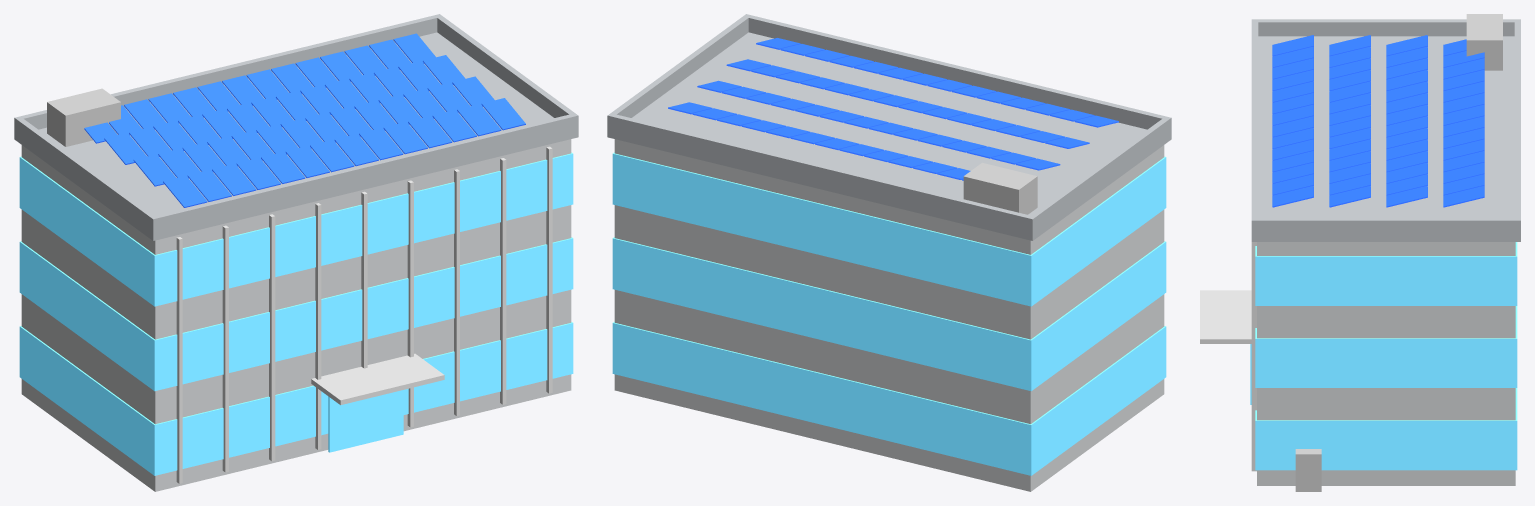
File: office-pv.glb
The picture shows the model from 3 angles, left to right: view 1: azimuth 30°, elevation 25°; view 2: azimuth 150°, elevation 25°; view 3: azimuth 270°, elevation 25°; orthographic projection. The views are drawn at different scales.
Parts seen in each view (by area): view 1: core, pv_panel (×54), glass_band_2, glass_band_1, glass_band_0, parapet (×4), mullion (×9), roof, canopy, entrance, rooftop_unit; view 2: core, roof, glass_band_0, glass_band_2, glass_band_1, parapet (×4), rooftop_unit; view 3: pv_panel (×55), core, roof, glass_band_1, glass_band_2, glass_band_0, parapet (×4), canopy, rooftop_unit, mullion, meter_cabinet.
Part boxes in pixels (x1=…): core: x1=21, y1=139, x2=571, y2=491; pv_panel (×54): x1=104, y1=33, x2=525, y2=207; glass_band_2: x1=19, y1=152, x2=573, y2=306; glass_band_1: x1=19, y1=237, x2=573, y2=391; glass_band_0: x1=19, y1=322, x2=573, y2=475; parapet (×4): x1=14, y1=14, x2=578, y2=233; mullion (×9): x1=176, y1=146, x2=552, y2=483; roof: x1=14, y1=32, x2=578, y2=240; canopy: x1=311, y1=353, x2=444, y2=405; entrance: x1=328, y1=390, x2=403, y2=452; rooftop_unit: x1=47, y1=88, x2=120, y2=146; core: x1=614, y1=139, x2=1164, y2=491; roof: x1=607, y1=32, x2=1171, y2=240; glass_band_0: x1=612, y1=322, x2=1166, y2=475; glass_band_2: x1=612, y1=152, x2=1166, y2=306; glass_band_1: x1=612, y1=237, x2=1166, y2=391; parapet (×4): x1=607, y1=14, x2=1171, y2=233; rooftop_unit: x1=963, y1=162, x2=1037, y2=214; pv_panel (×55): x1=1272, y1=35, x2=1484, y2=207; core: x1=1257, y1=242, x2=1515, y2=485; roof: x1=1251, y1=36, x2=1520, y2=241; glass_band_1: x1=1255, y1=306, x2=1517, y2=387; glass_band_2: x1=1255, y1=242, x2=1517, y2=305; glass_band_0: x1=1255, y1=388, x2=1517, y2=470; parapet (×4): x1=1251, y1=19, x2=1520, y2=234; canopy: x1=1200, y1=290, x2=1251, y2=343; rooftop_unit: x1=1466, y1=14, x2=1502, y2=70; mullion: x1=1251, y1=242, x2=1256, y2=471; meter_cabinet: x1=1295, y1=449, x2=1321, y2=491.
Bounding box in the file's own units: 18.75 × 12.1 × 12.4.
